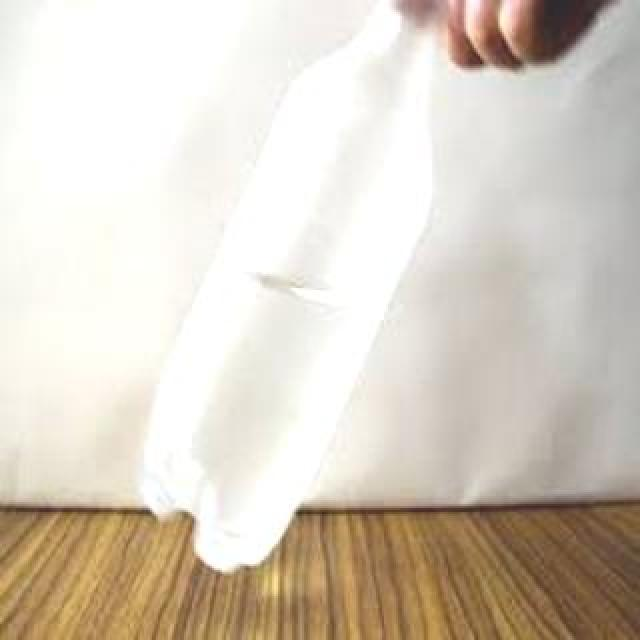Pet_Bottle: (137, 0, 451, 574)
